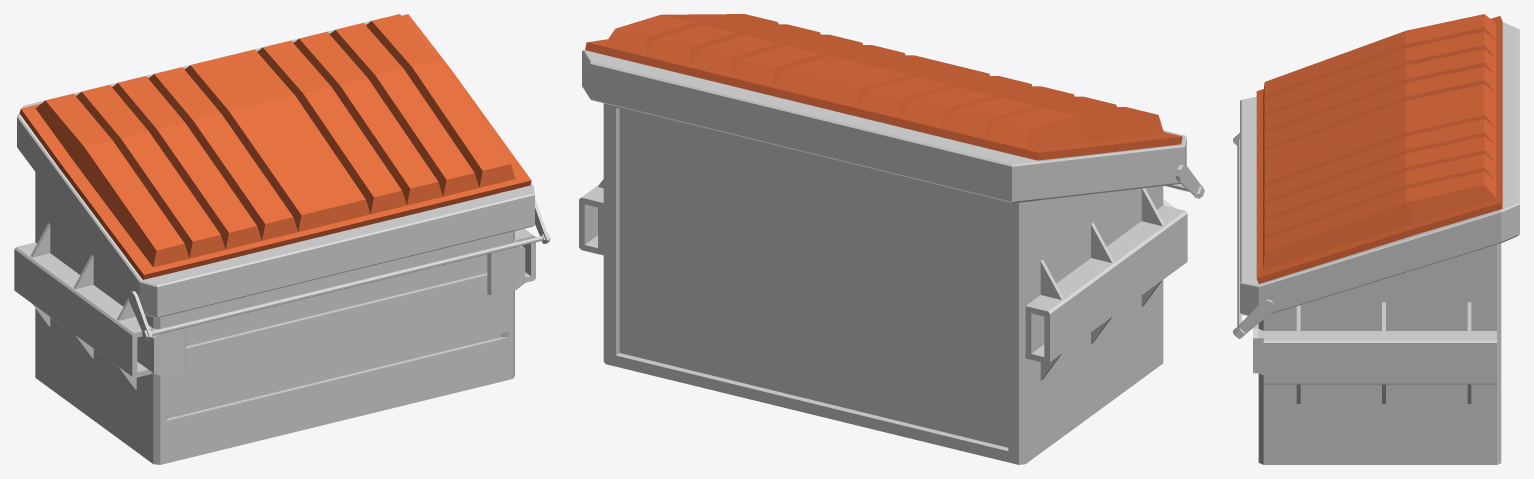
Rendered from Dumpster-M00A.fbx.
3 renders of one model, left to right at view 1: azimuth 30°, elevation 25°; view 2: azimuth 150°, elevation 25°; view 3: azimuth 270°, elevation 25°, orthographic. The views are drawn at different scales.
Parts seen in each view (by area): view 1: Dumpster-M00A, Lid-M00B; view 2: Dumpster-M00A, Lid-M00B; view 3: Dumpster-M00A, Lid-M00B.
Boxes of the visible parts, <box> form: Dumpster-M00A: <box>14,17,550,464</box>; Lid-M00B: <box>19,14,531,279</box>; Dumpster-M00A: <box>579,50,1204,464</box>; Lid-M00B: <box>585,14,1182,160</box>; Dumpster-M00A: <box>1233,22,1519,464</box>; Lid-M00B: <box>1256,14,1502,283</box>.
Size of the model in its own units: 232 by 154 by 144.
